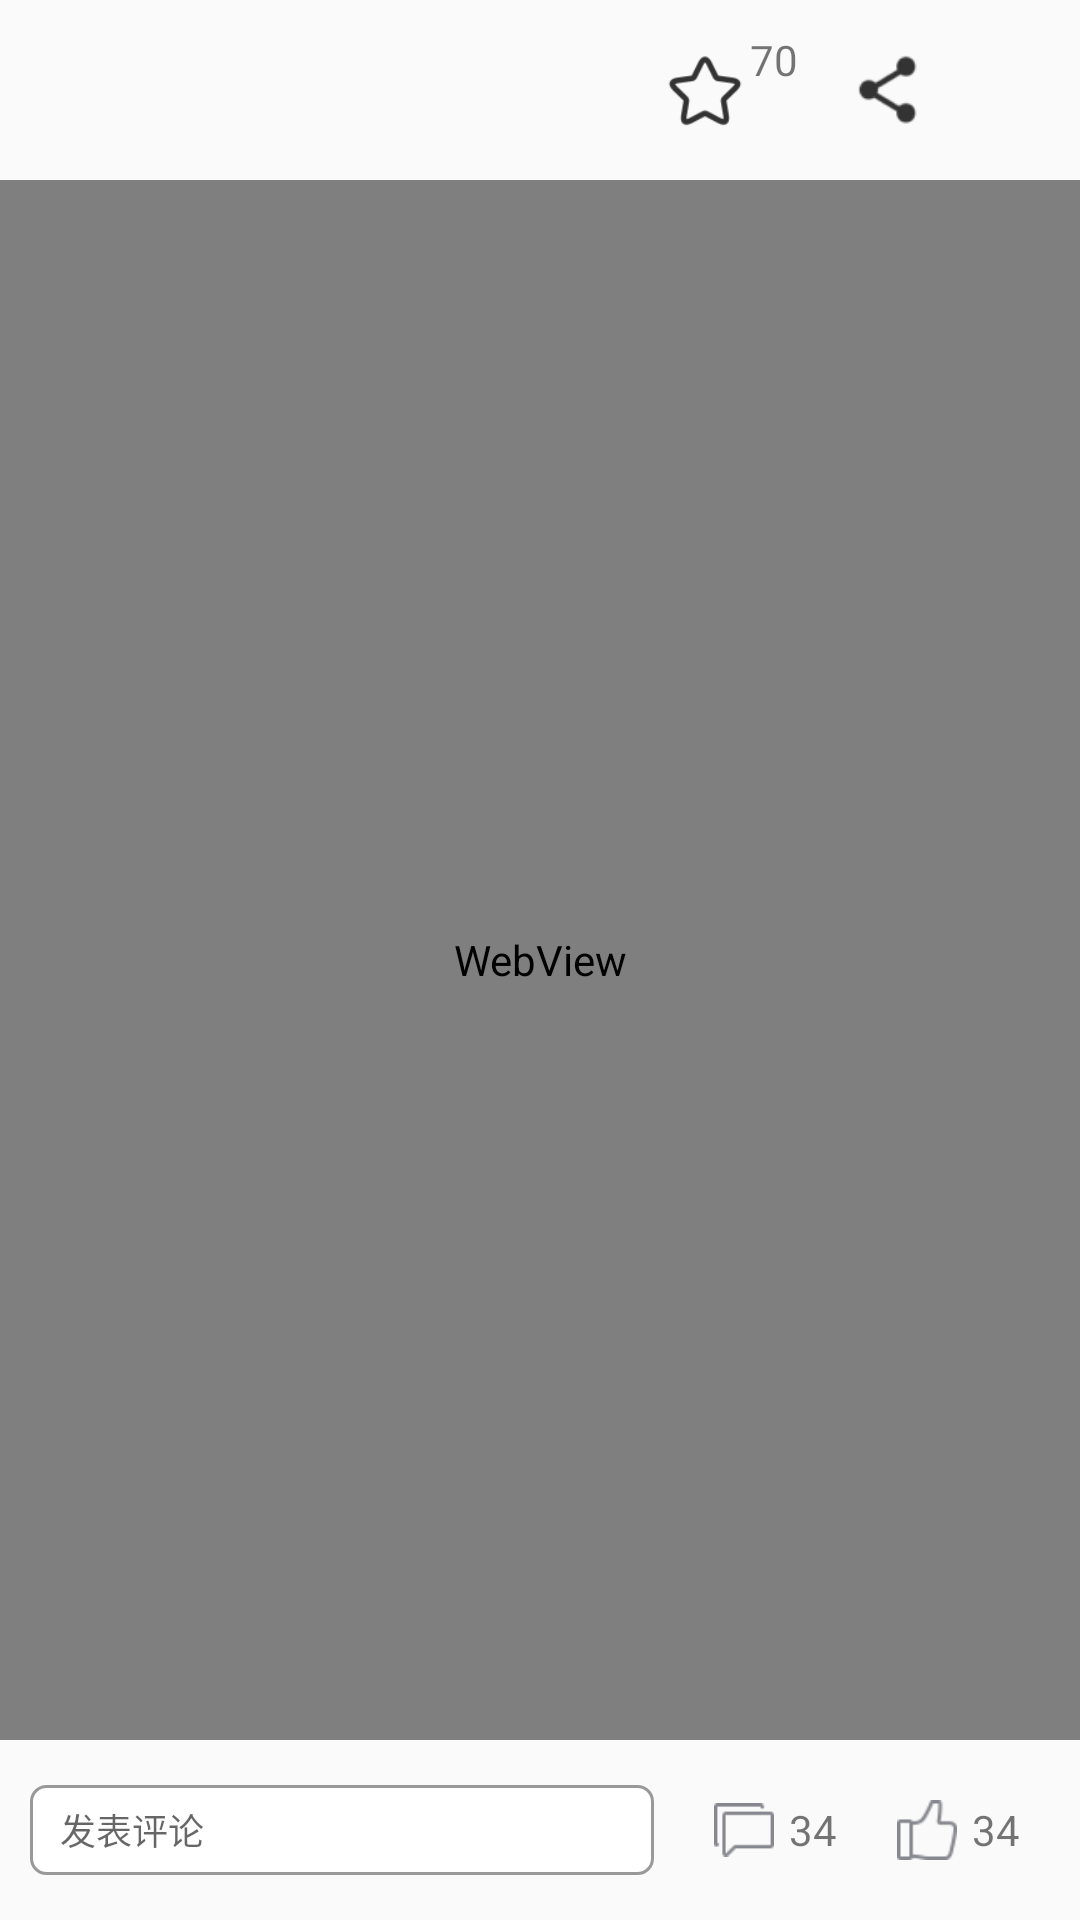

Where icons sit on this 1080px x 1920px app screen, as rect(x1, y1, x2, y2):
mark: rect(669, 56, 741, 125)
message comment: rect(714, 1803, 774, 1857)
message praise: rect(897, 1800, 957, 1860)
share: rect(859, 56, 917, 124)
